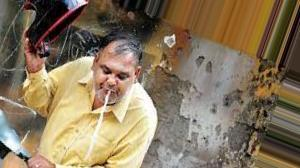spitting: (21, 34, 160, 168)
